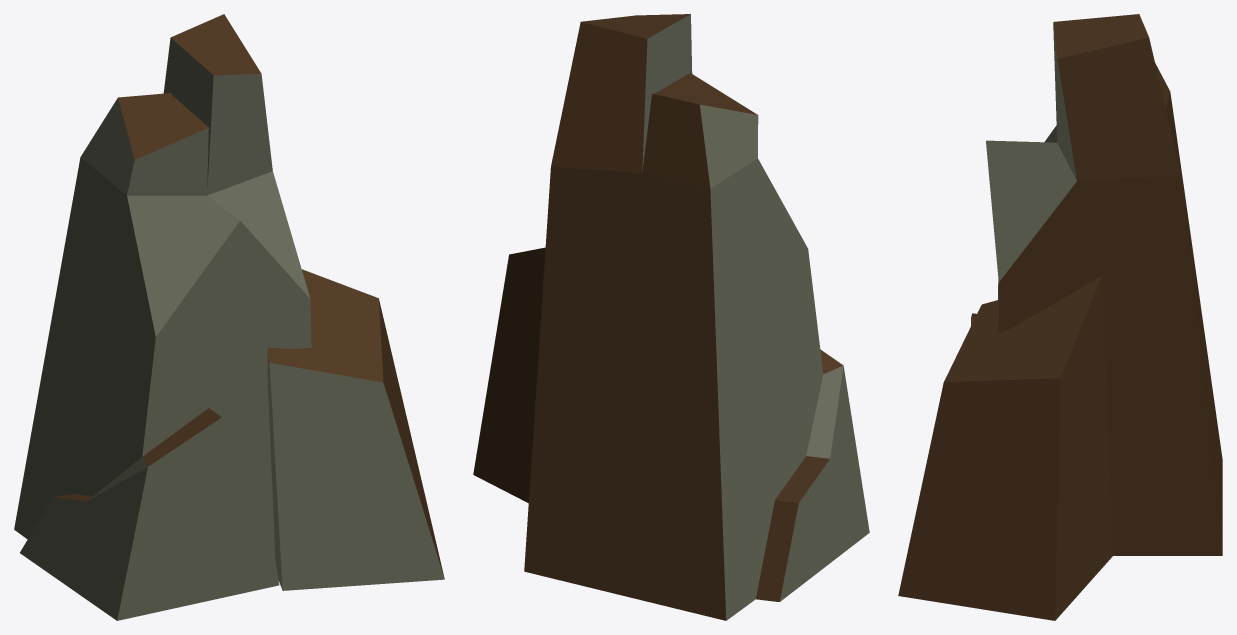
Rendered from rocks2.fbx.
3 views of the same model, side by side, from view 1: azimuth 30°, elevation 25°; view 2: azimuth 150°, elevation 25°; view 3: azimuth 270°, elevation 25° (orthographic). The views are drawn at different scales.
Parts seen in each view (by area): view 1: rocks.002; view 2: rocks.002; view 3: rocks.002.
Boxes of the visible parts, box(x1,y1,x2,y2) form: rocks.002: box(14, 14, 444, 620); rocks.002: box(473, 14, 869, 620); rocks.002: box(898, 14, 1222, 620).
Bounding box in the file's own units: 150 × 207 × 119.
